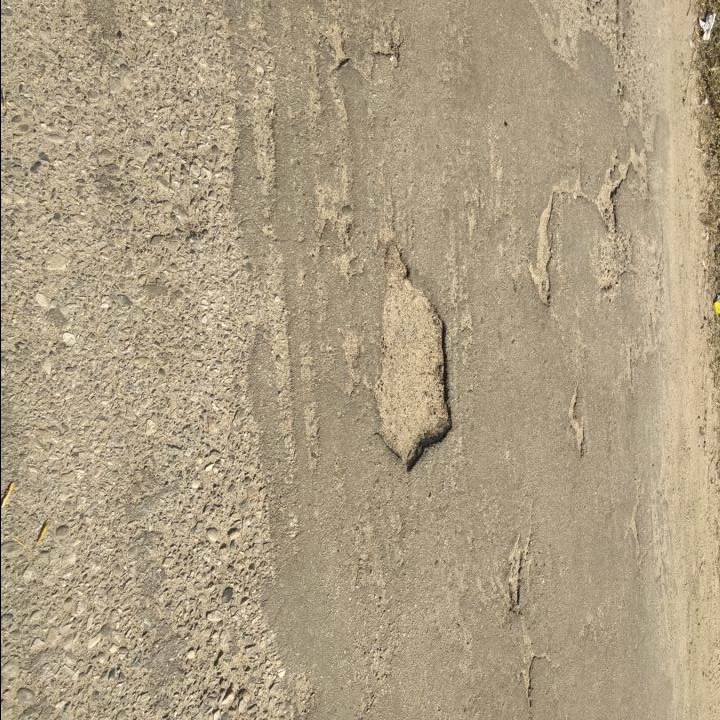pothole: (372, 243, 458, 476), (593, 149, 634, 236), (536, 186, 555, 311)
